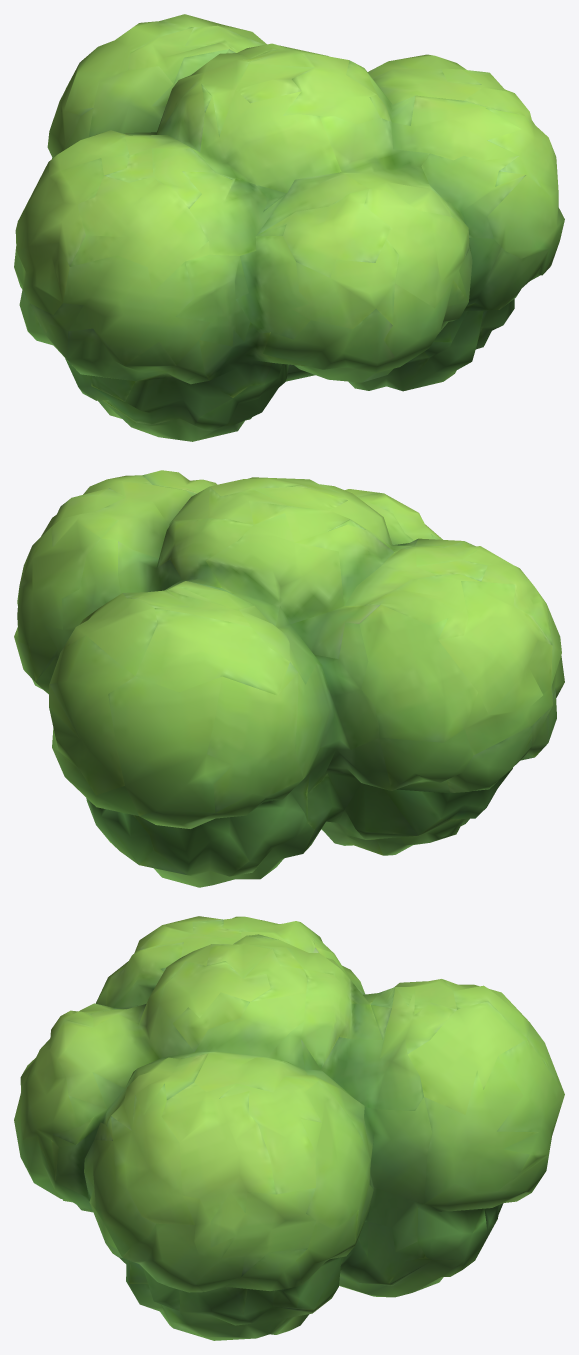
The model's file is bush.glb.
The picture shows the model from 3 angles, top to bottom: view 1: azimuth 30°, elevation 25°; view 2: azimuth 150°, elevation 25°; view 3: azimuth 270°, elevation 25°; orthographic projection. The views are drawn at different scales.
Bounding box in the file's own units: 1.89 × 1.17 × 1.82.
Materials: 1 (1 with a texture image).
